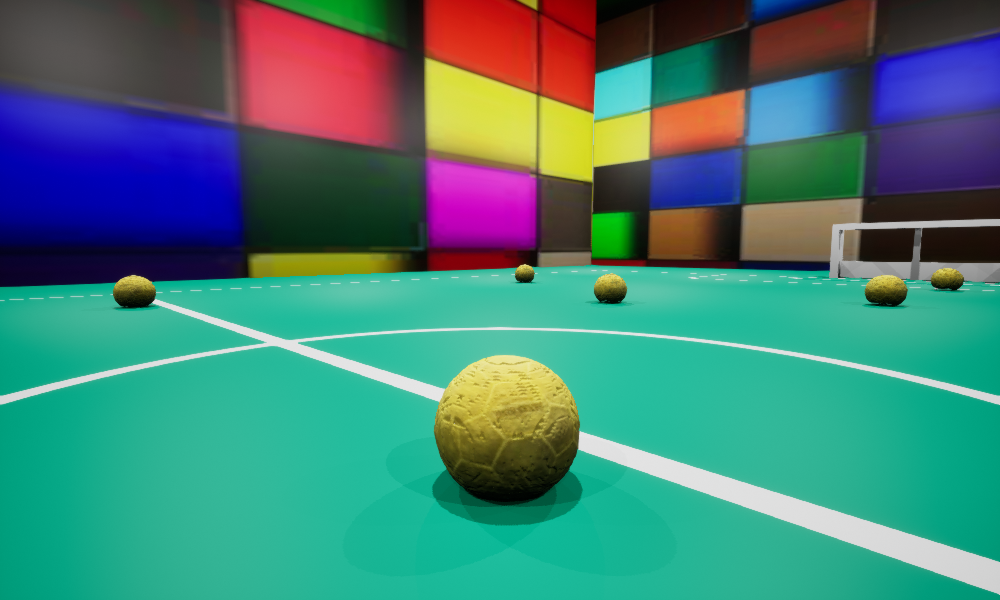b: (434, 355, 579, 500), (113, 275, 155, 307), (865, 275, 907, 305), (594, 273, 626, 302), (931, 268, 963, 290), (515, 264, 534, 282)
g: (829, 219, 999, 281)
